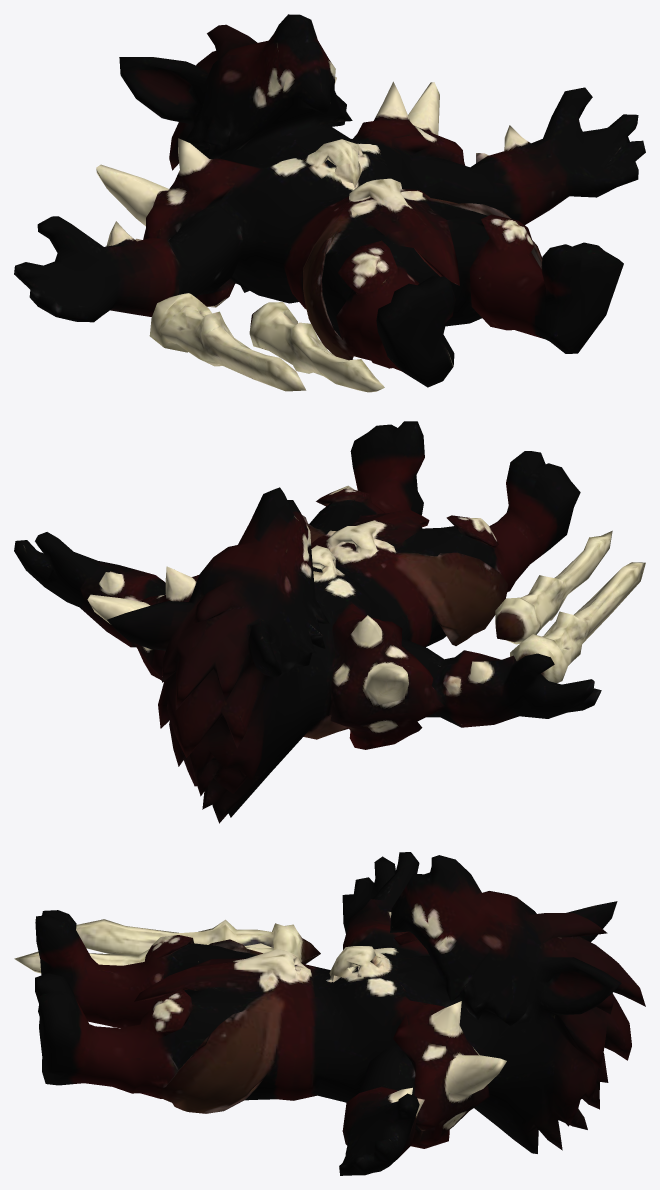
Rendered from bloodsworn_fallen.glb.
3 views of the same model, one above another, from view 1: azimuth 30°, elevation 25°; view 2: azimuth 150°, elevation 25°; view 3: azimuth 270°, elevation 25° (orthographic). The views are drawn at different scales.
Parts seen in each view (by area): view 1: world; view 2: world; view 3: world.
Boxes of the visible parts, x1,y1,x2,y2 form: world: (14,14,645,392); world: (14,421,645,823); world: (14,852,645,1175).
Size of the model in its own units: 0.9912 by 0.4781 by 0.9168.
Materials: 1 (1 with a texture image).
